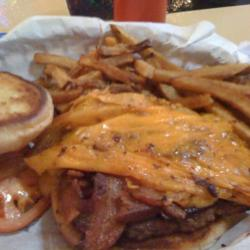burger: (63, 102, 245, 249), (1, 69, 58, 236)
fries: (45, 38, 238, 110)
